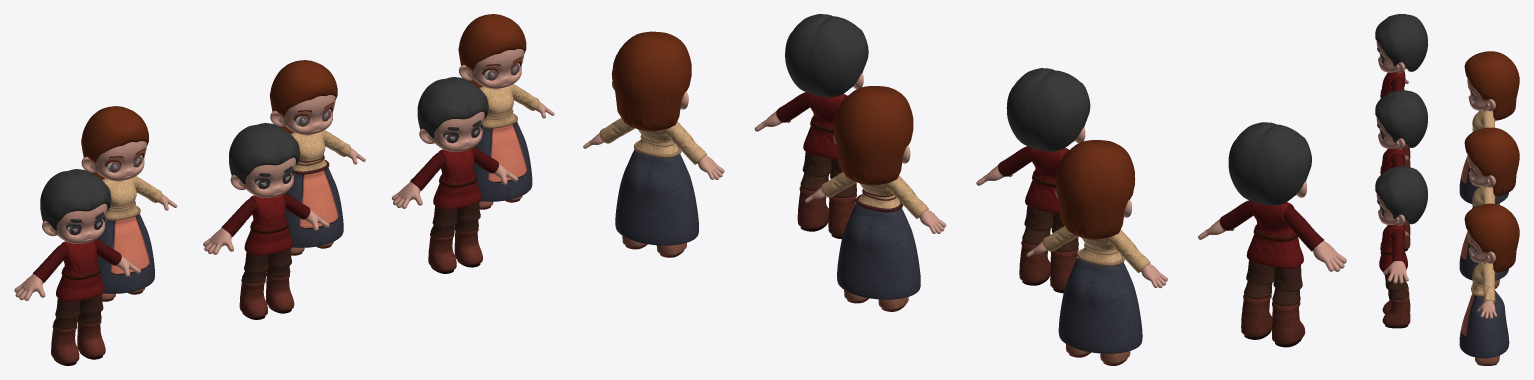
The model's file is NPC_boy and girl.fbx.
The picture shows the model from 3 angles, left to right: view 1: azimuth 30°, elevation 25°; view 2: azimuth 150°, elevation 25°; view 3: azimuth 270°, elevation 25°; orthographic projection. The views are drawn at different scales.
Visible parts, largest first — view 1: NPC_G3_outfit, NPC_G1_outfit, NPC_G2_outfit, NPC_B3_outfit, NPC_B1_outfit, NPC_B2_outfit, NPC_B3_skin, NPC_B1_skin, NPC_B2_skin, NPC_B3_hair, NPC_B1_hair, NPC_B2_hair (+6 smaller); view 2: NPC_G1_outfit, NPC_G3_outfit, NPC_G2_outfit, NPC_G3_hair, NPC_G2_hair, NPC_G1_hair, NPC_B1_outfit, NPC_B1_hair, NPC_B3_hair, NPC_B2_hair, NPC_B2_outfit, NPC_B3_outfit (+6 smaller); view 3: NPC_G3_outfit, NPC_G2_hair, NPC_G1_hair, NPC_G3_hair, NPC_B2_hair, NPC_B3_hair, NPC_B1_hair, NPC_B3_skin, NPC_B3_outfit, NPC_G2_outfit, NPC_G1_outfit, NPC_G3_skin (+6 smaller).
Boxes of the visible parts, left/top/right/bottom form: NPC_G3_outfit: left=474, top=84, right=539, bottom=209; NPC_G1_outfit: left=97, top=176, right=162, bottom=301; NPC_G2_outfit: left=285, top=130, right=350, bottom=255; NPC_B3_outfit: left=410, top=147, right=499, bottom=237; NPC_B1_outfit: left=33, top=239, right=121, bottom=329; NPC_B2_outfit: left=221, top=193, right=310, bottom=283; NPC_B3_skin: left=391, top=111, right=518, bottom=273; NPC_B1_skin: left=14, top=203, right=140, bottom=365; NPC_B2_skin: left=203, top=157, right=329, bottom=319; NPC_B3_hair: left=417, top=77, right=488, bottom=138; NPC_B1_hair: left=40, top=169, right=111, bottom=230; NPC_B2_hair: left=229, top=123, right=299, bottom=184; NPC_G1_outfit: left=1043, top=226, right=1150, bottom=365; NPC_G3_outfit: left=599, top=118, right=706, bottom=257; NPC_G2_outfit: left=821, top=172, right=928, bottom=311; NPC_G3_hair: left=611, top=31, right=691, bottom=131; NPC_G2_hair: left=833, top=86, right=913, bottom=185; NPC_G1_hair: left=1055, top=140, right=1135, bottom=239; NPC_B1_outfit: left=1219, top=200, right=1323, bottom=306; NPC_B1_hair: left=1228, top=122, right=1311, bottom=205; NPC_B3_hair: left=785, top=14, right=868, bottom=97; NPC_B2_hair: left=1006, top=68, right=1090, bottom=151; NPC_B2_outfit: left=998, top=146, right=1078, bottom=251; NPC_B3_outfit: left=776, top=92, right=856, bottom=197; NPC_G3_outfit: left=1459, top=263, right=1509, bottom=365; NPC_G2_hair: left=1464, top=127, right=1519, bottom=196; NPC_G1_hair: left=1464, top=51, right=1519, bottom=120; NPC_G3_hair: left=1464, top=203, right=1519, bottom=272; NPC_B2_hair: left=1375, top=90, right=1427, bottom=147; NPC_B3_hair: left=1375, top=166, right=1427, bottom=224; NPC_B1_hair: left=1375, top=14, right=1427, bottom=71; NPC_B3_skin: left=1376, top=193, right=1410, bottom=328; NPC_B3_outfit: left=1379, top=223, right=1407, bottom=299; NPC_G2_outfit: left=1459, top=186, right=1508, bottom=288; NPC_G1_outfit: left=1459, top=110, right=1508, bottom=204; NPC_G3_skin: left=1467, top=231, right=1497, bottom=318.
Bounding box in the file's own units: 312 × 92.28 × 80.19.
24 materials, 24 textured.
